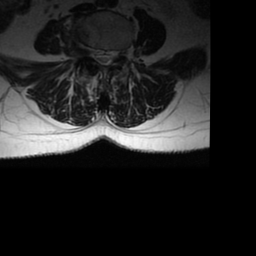CCS_normal: (100, 43, 107, 71)
LFS_stenosis: (115, 43, 123, 61)
LLS_normal: (107, 45, 115, 65)
RFS_normal: (84, 40, 92, 63)
RLS_normal: (92, 44, 101, 65)
